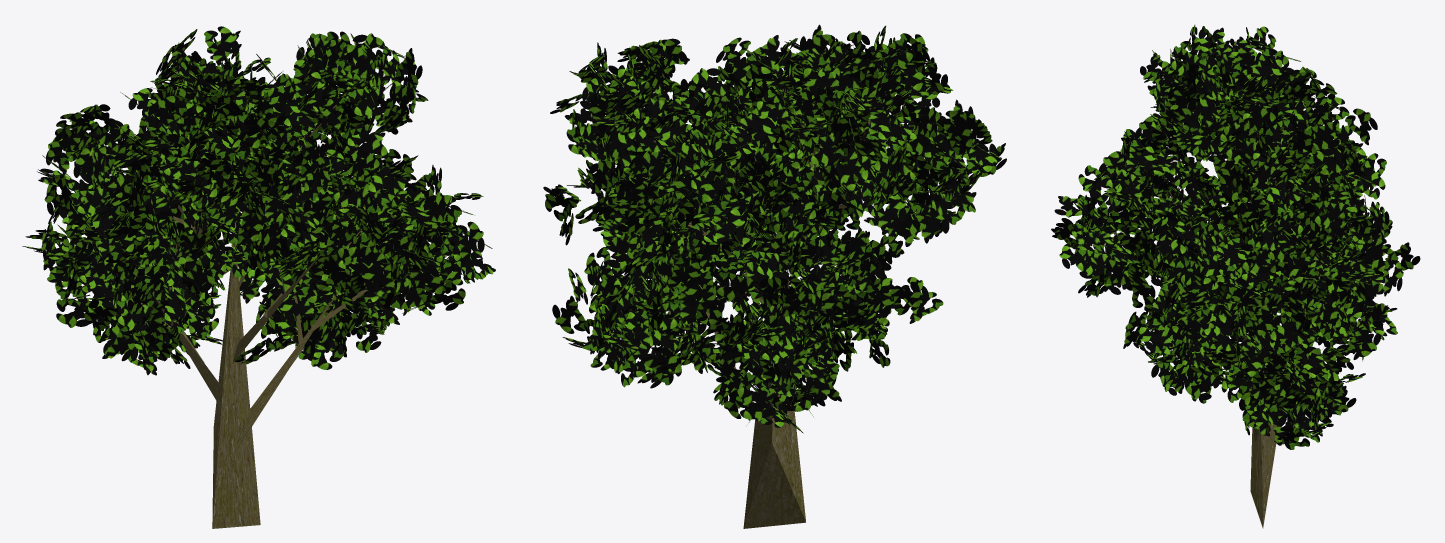
File: oak_broadleaf_v01_LOD2.fbx
3 views of the same model, side by side, from view 1: azimuth 30°, elevation 25°; view 2: azimuth 150°, elevation 25°; view 3: azimuth 270°, elevation 25° (orthographic). The views are drawn at different scales.
Parts seen in each view (by area): view 1: oak_broadleaf_v01_LOD2; view 2: oak_broadleaf_v01_LOD2; view 3: oak_broadleaf_v01_LOD2.
Part boxes in pixels (x1,y1,x2,y2): oak_broadleaf_v01_LOD2: (22,26,495,528); oak_broadleaf_v01_LOD2: (543,24,1006,528); oak_broadleaf_v01_LOD2: (1051,25,1420,528).
Size of the model in its own units: 1464 by 1263 by 1671.
Materials: 2 (2 with a texture image).
